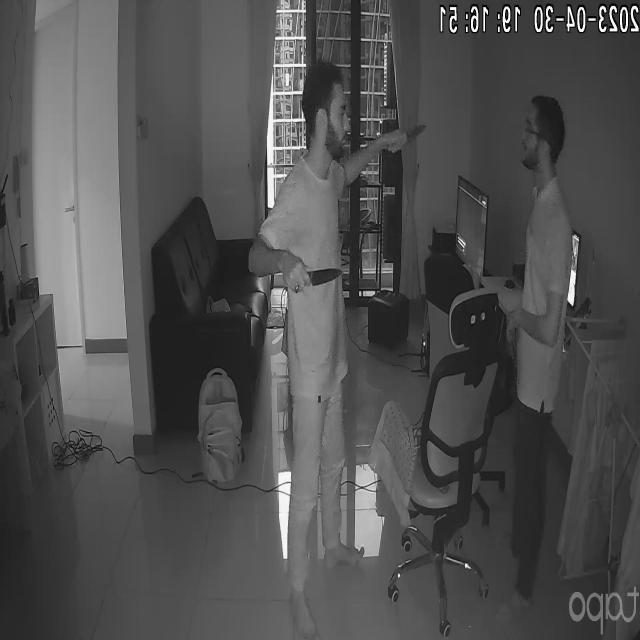Knife: (284, 250, 353, 298), (397, 118, 435, 156)
